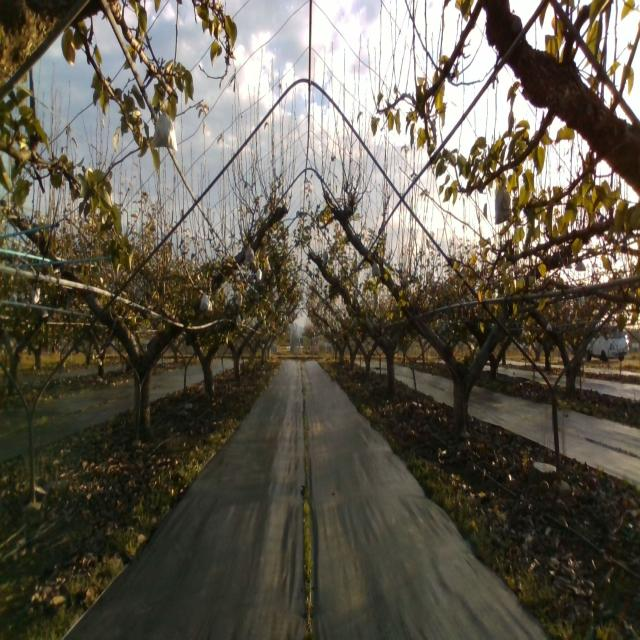pearbags: (150, 112, 175, 150), (494, 178, 512, 225), (200, 290, 212, 314), (245, 243, 255, 263), (371, 259, 382, 277)
